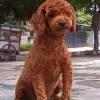Bulldog: (21, 1, 86, 99)
